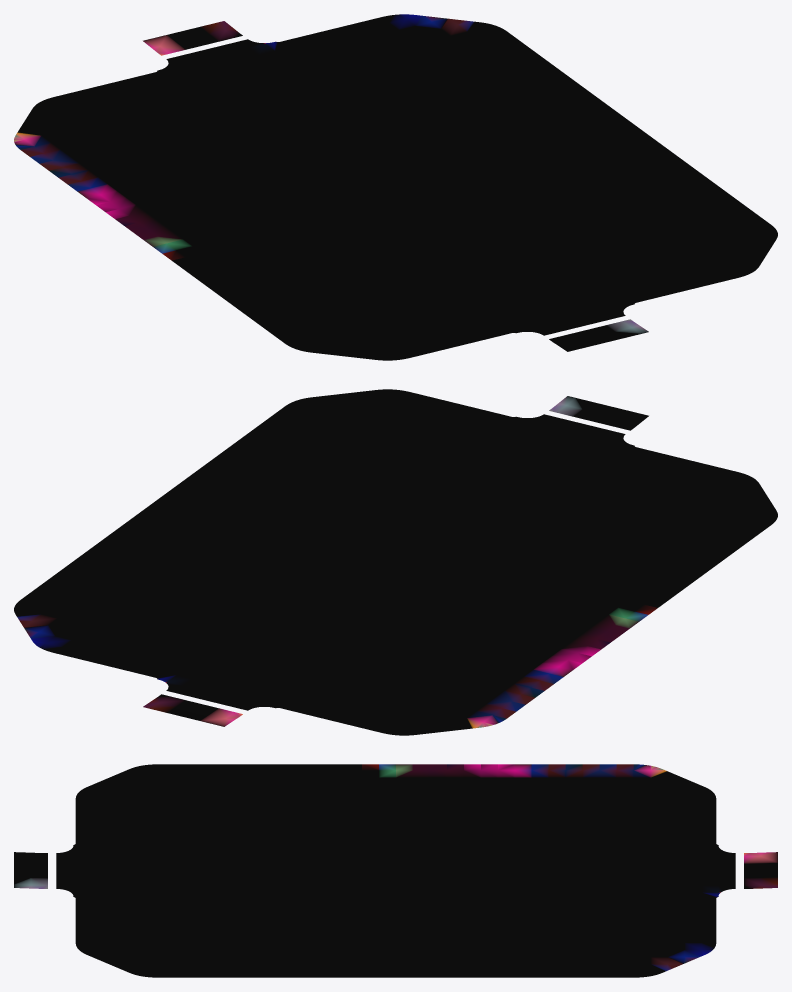
Rendered from Grass_Base.gltf.
3 views of the same model, one above another, from view 1: azimuth 30°, elevation 25°; view 2: azimuth 150°, elevation 25°; view 3: azimuth 270°, elevation 25° (orthographic). The views are drawn at different scales.
Visible parts, largest first — view 1: Grass_Base; view 2: Grass_Base; view 3: Grass_Base.
Part boxes in pixels (x1,y1,x2,y2): Grass_Base: (14,14,777,360); Grass_Base: (14,389,777,735); Grass_Base: (14,764,777,977).
Size of the model in its own units: 76.12 by 0.1603 by 115.
